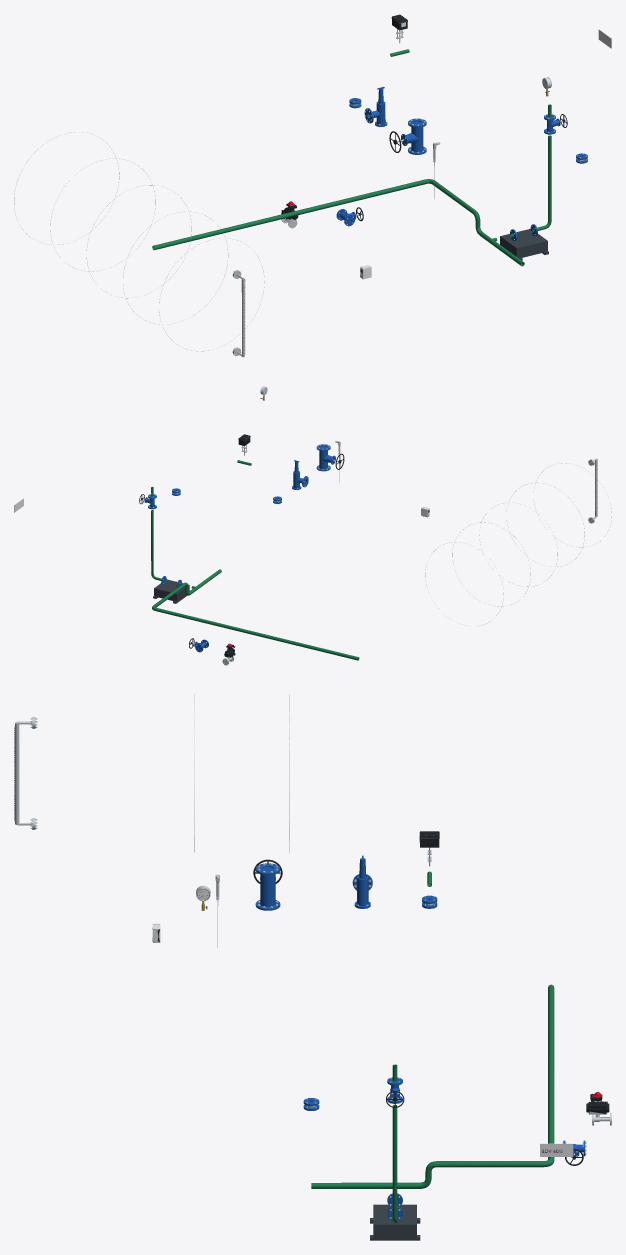
The picture shows the model from 3 angles, top to bottom: view 1: azimuth 30°, elevation 25°; view 2: azimuth 150°, elevation 25°; view 3: azimuth 270°, elevation 25°; orthographic projection. The views are drawn at different scales.
Visible parts, largest first — view 1: suction_common / green, pump_branch_2 / dark, deaerator_details / steel, steam_manual / blue, pump_branch_2 / green, safety_1 / blue; view 2: suction_common / green, deaerator_details / steel, pump_branch_2 / dark; view 3: suction_common / green, pump_branch_2 / dark, deaerator_details / steel, steam_manual / blue, pump_branch_2 / green.
Boxes of the visible parts, bbox=[...] form: suction_common / green: bbox=[152, 179, 524, 266]; pump_branch_2 / dark: bbox=[500, 229, 548, 260]; deaerator_details / steel: bbox=[14, 132, 264, 357]; steam_manual / blue: bbox=[401, 118, 426, 154]; pump_branch_2 / green: bbox=[492, 104, 551, 241]; safety_1 / blue: bbox=[364, 87, 387, 126]; suction_common / green: bbox=[152, 569, 359, 660]; deaerator_details / steel: bbox=[425, 458, 611, 626]; pump_branch_2 / dark: bbox=[153, 579, 189, 603]; suction_common / green: bbox=[311, 984, 554, 1188]; pump_branch_2 / dark: bbox=[370, 1204, 420, 1240]; deaerator_details / steel: bbox=[15, 694, 289, 852]; steam_manual / blue: bbox=[255, 863, 280, 910]; pump_branch_2 / green: bbox=[392, 1064, 397, 1223].
Bounding box in the file's own units: 8.4 × 3.24 × 5.36.
